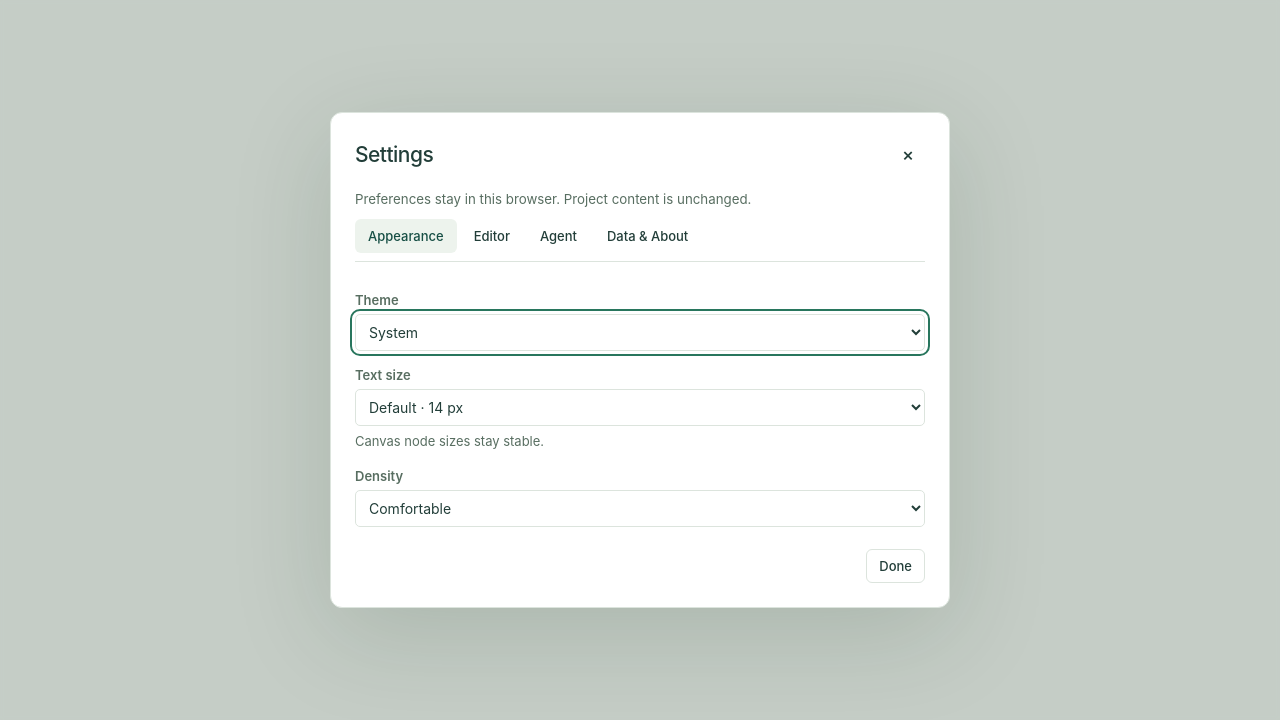
Test: keeps sound off with useful feedback if audio is unavailable
The width and height of the screenshot is (1280, 720).
Step 1. Click the button "Agent" → (558, 236), box [527,219,590,253]
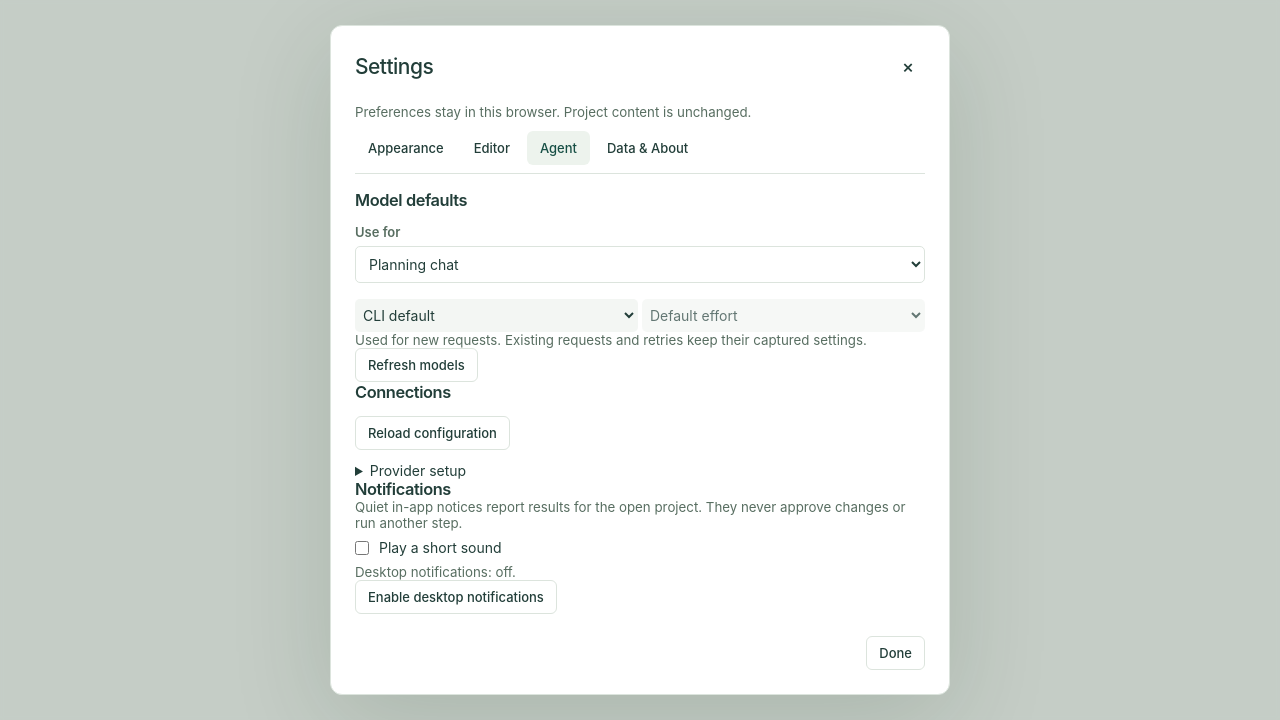
Step 2. Click the checkbox labelled "Play a short sound" → (362, 548), box [355,541,369,555]
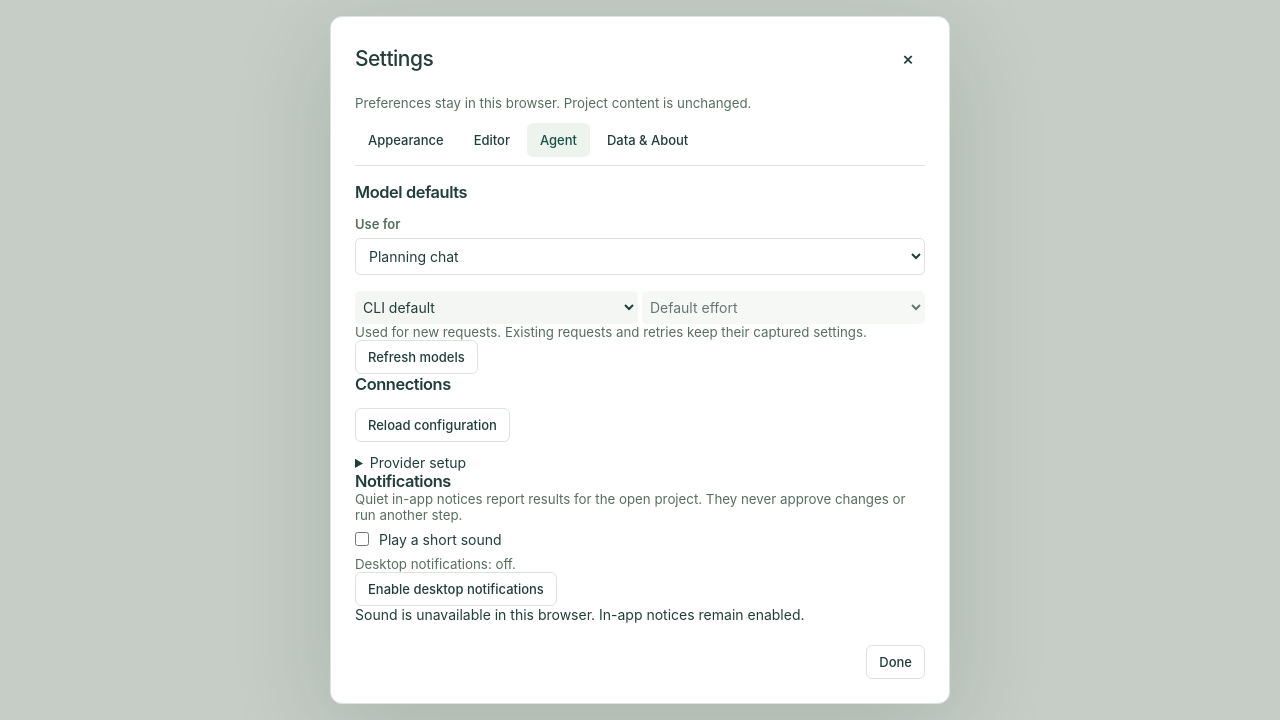
Result: the text "Sound is unavailable in this browser. In-app notices remain enabled." is shown at [355,606,804,623]
